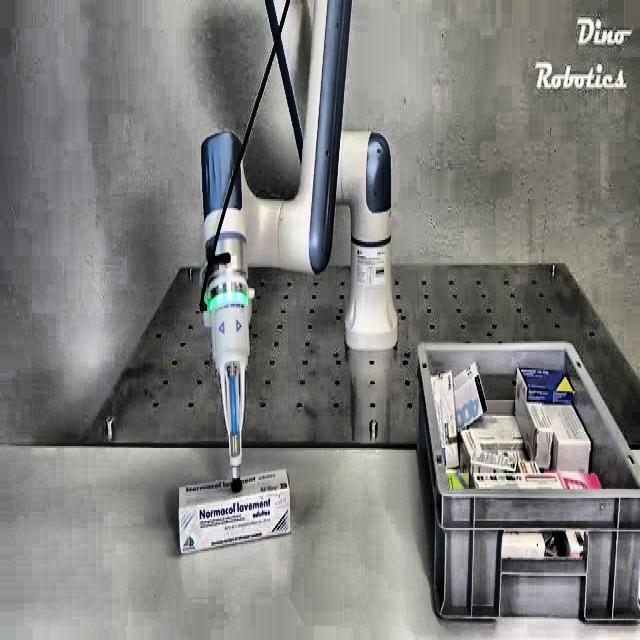robot: (197, 0, 398, 491)
